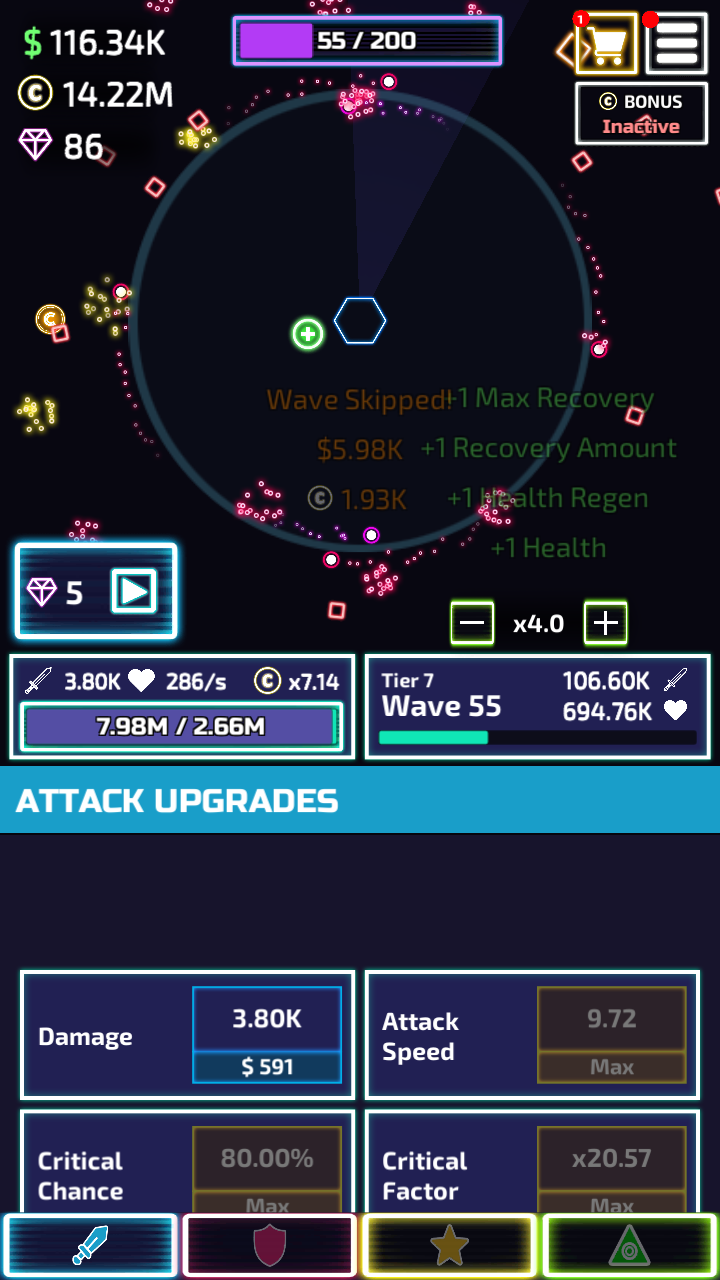B_Gem_Ad: (9, 538, 180, 639)
B_Menu_Action_Required: (638, 7, 703, 70)
B_Menu_Closed: (571, 9, 706, 73)
B_Slot: (366, 971, 700, 1092), (18, 971, 353, 1090), (363, 1113, 695, 1209), (20, 1112, 347, 1209)
B_Slot_Button: (189, 988, 343, 1082), (534, 990, 686, 1082), (188, 1128, 343, 1209), (533, 1128, 687, 1208)
B_Slot_Label: (368, 1141, 487, 1205), (25, 1142, 142, 1207), (370, 1001, 475, 1068), (26, 1015, 153, 1060)
B_Slot_Maxed: (532, 988, 682, 1084), (186, 1125, 343, 1207), (532, 1127, 689, 1208)
B_Slot_Price: (224, 1047, 303, 1082)
B_Slot_Value: (199, 1138, 324, 1177), (553, 1138, 663, 1177), (211, 997, 317, 1036), (558, 1000, 651, 1039)
B_Tab_Attack: (0, 767, 720, 830)
